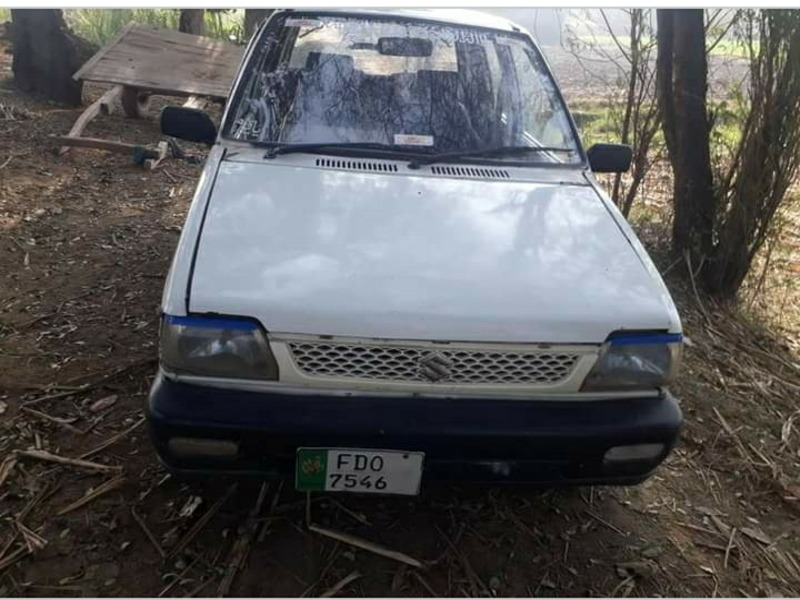License Plate: (289, 442, 431, 502)
